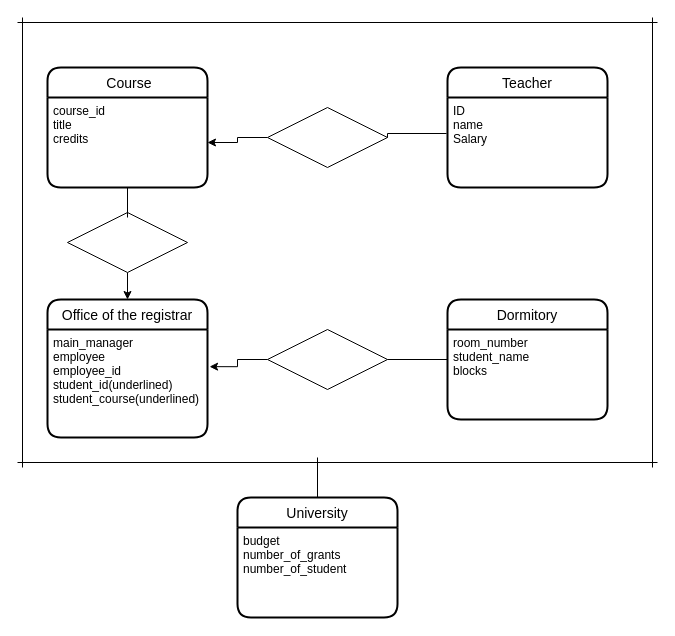
The diagram is 675 pixels wide and 636 high, and some of its shapes have lost their labels. Here are the shapes that lost their labels. From the top down, the centre of each, then its label:
At (x=327, y=137): "give".
At (x=127, y=242): "student_course".
At (x=327, y=359): "student_info".
